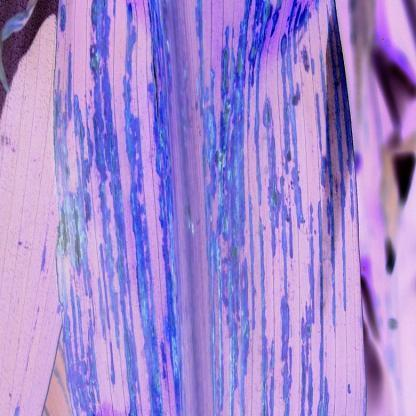Corn leaf blight: (51, 1, 366, 415)
